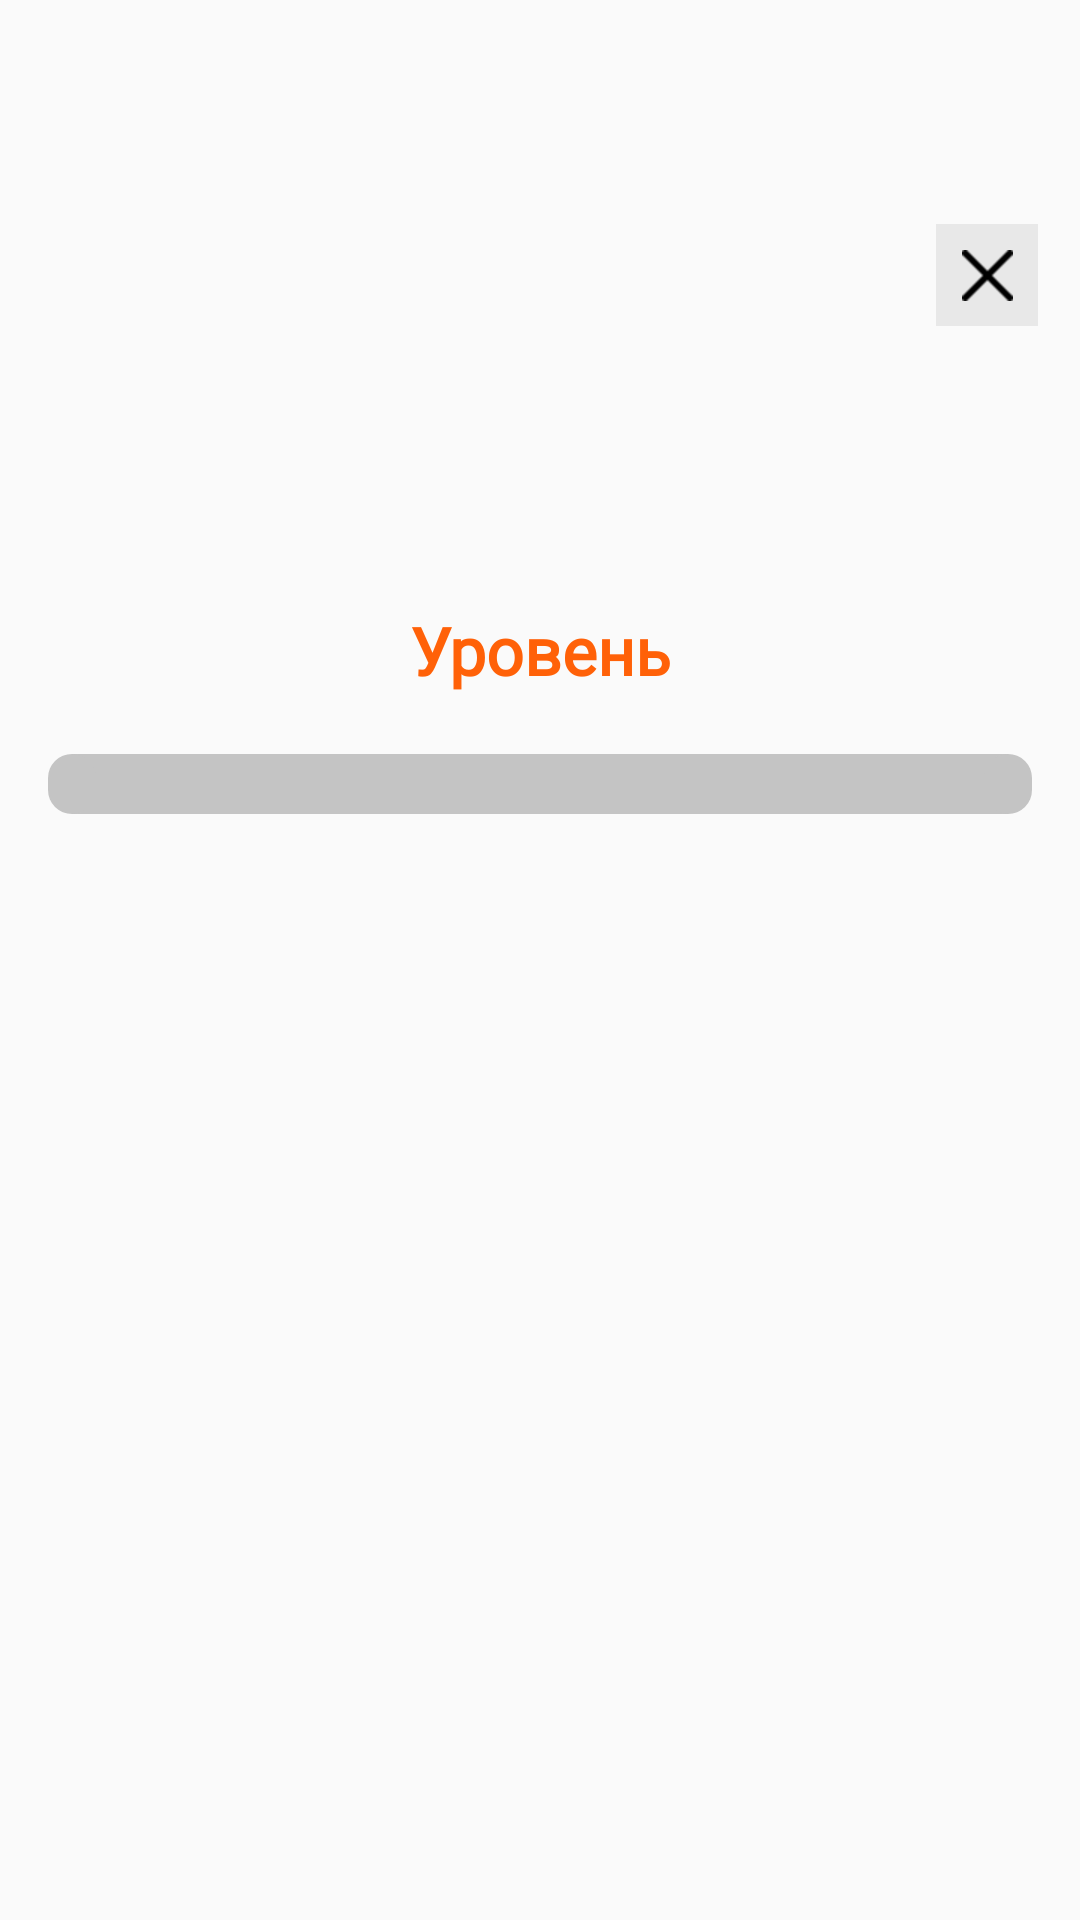

Icons on this 1080x1920 Android screen, each with the point to tap as point (x, y):
close: point (987, 275)
